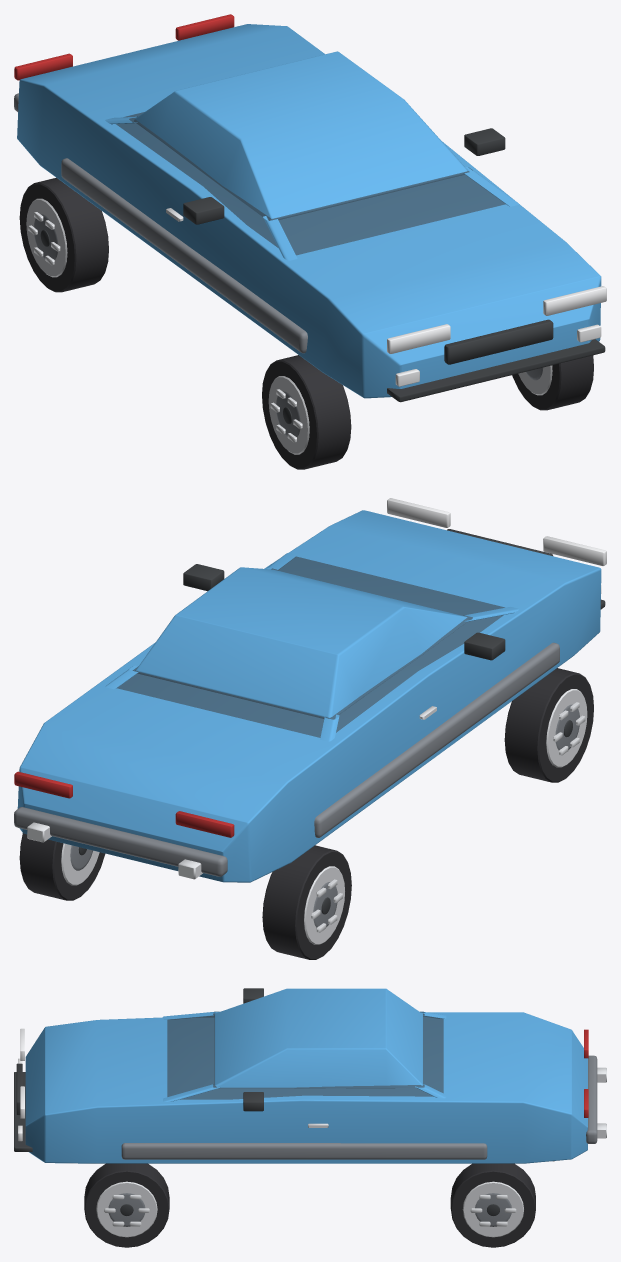
The model's file is heritage-coupe.glb.
3 views of the same model, one above another, from view 1: azimuth 30°, elevation 25°; view 2: azimuth 150°, elevation 25°; view 3: azimuth 270°, elevation 25° (orthographic). The views are drawn at different scales.
Parts seen in each view (by area): view 1: paint, tyre, glass, accent, trim, rim, head, tail; view 2: paint, tyre, accent, glass, rim, trim, head, tail; view 3: paint, accent, glass, tyre, rim, trim, head.
Part boxes in pixels (box(x1,y1,x2,y2)): paint: box(17, 24, 601, 398); tyre: box(19, 177, 593, 469); glass: box(116, 112, 505, 255); accent: box(14, 93, 543, 437); trim: box(40, 128, 605, 424); rim: box(26, 198, 552, 454); head: box(387, 286, 606, 386); tail: box(14, 14, 234, 80); paint: box(17, 510, 601, 882); tyre: box(19, 668, 593, 959); accent: box(14, 642, 579, 927); glass: box(117, 556, 504, 737); rim: box(27, 689, 587, 944); trim: box(78, 529, 605, 914); head: box(387, 498, 606, 593); tail: box(14, 771, 234, 837); paint: box(25, 988, 587, 1163); accent: box(108, 1055, 597, 1226); glass: box(167, 1013, 443, 1099); tyre: box(84, 1163, 535, 1247); rim: box(96, 1067, 606, 1237); trim: box(14, 988, 554, 1215); head: box(18, 1028, 24, 1141).
Bounding box in the file's own units: 2.35 × 1.71 × 5.14.
